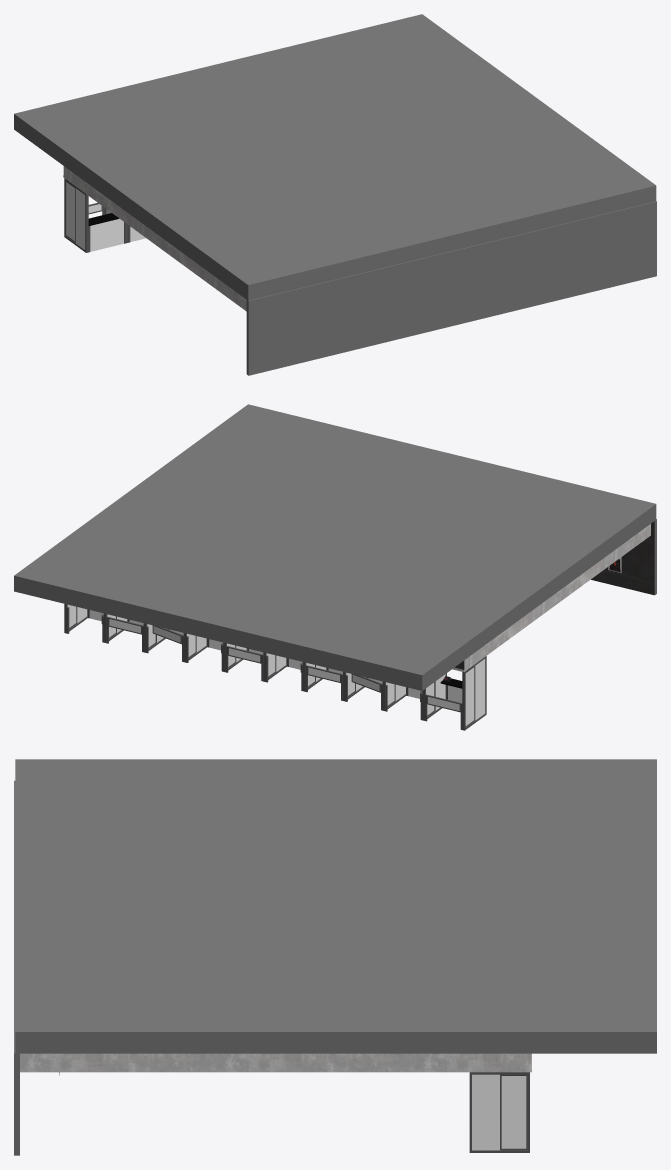
The model's file is shooting_range.glb.
3 renders of one model, top to bottom at view 1: azimuth 30°, elevation 25°; view 2: azimuth 150°, elevation 25°; view 3: azimuth 270°, elevation 25°, orthographic. The views are drawn at different scales.
Parts seen in each view (by area): view 1: SR Ceiling.Shape, SR Wall Front.Shape, SR Range Divider.Shape; view 2: SR Ceiling.Shape, SR Range Divider.Shape, SR Wall Front.Shape; view 3: SR Ceiling.Shape, SR Range Divider.Shape, SR Wall Front.Shape.
Part boxes in pixels (box(x1,y1,x2,y2)): SR Ceiling.Shape: box(14, 14, 656, 311); SR Wall Front.Shape: box(246, 201, 656, 375); SR Range Divider.Shape: box(64, 178, 145, 252); SR Ceiling.Shape: box(14, 404, 656, 690); SR Range Divider.Shape: box(64, 604, 486, 730); SR Wall Front.Shape: box(591, 519, 656, 595); SR Ceiling.Shape: box(15, 759, 656, 1072); SR Range Divider.Shape: box(469, 1072, 529, 1152); SR Wall Front.Shape: box(14, 780, 19, 1155).
Bounding box in the file's own units: 17.06 × 3.61 × 16.99.
Materials: 17 (10 with a texture image).
